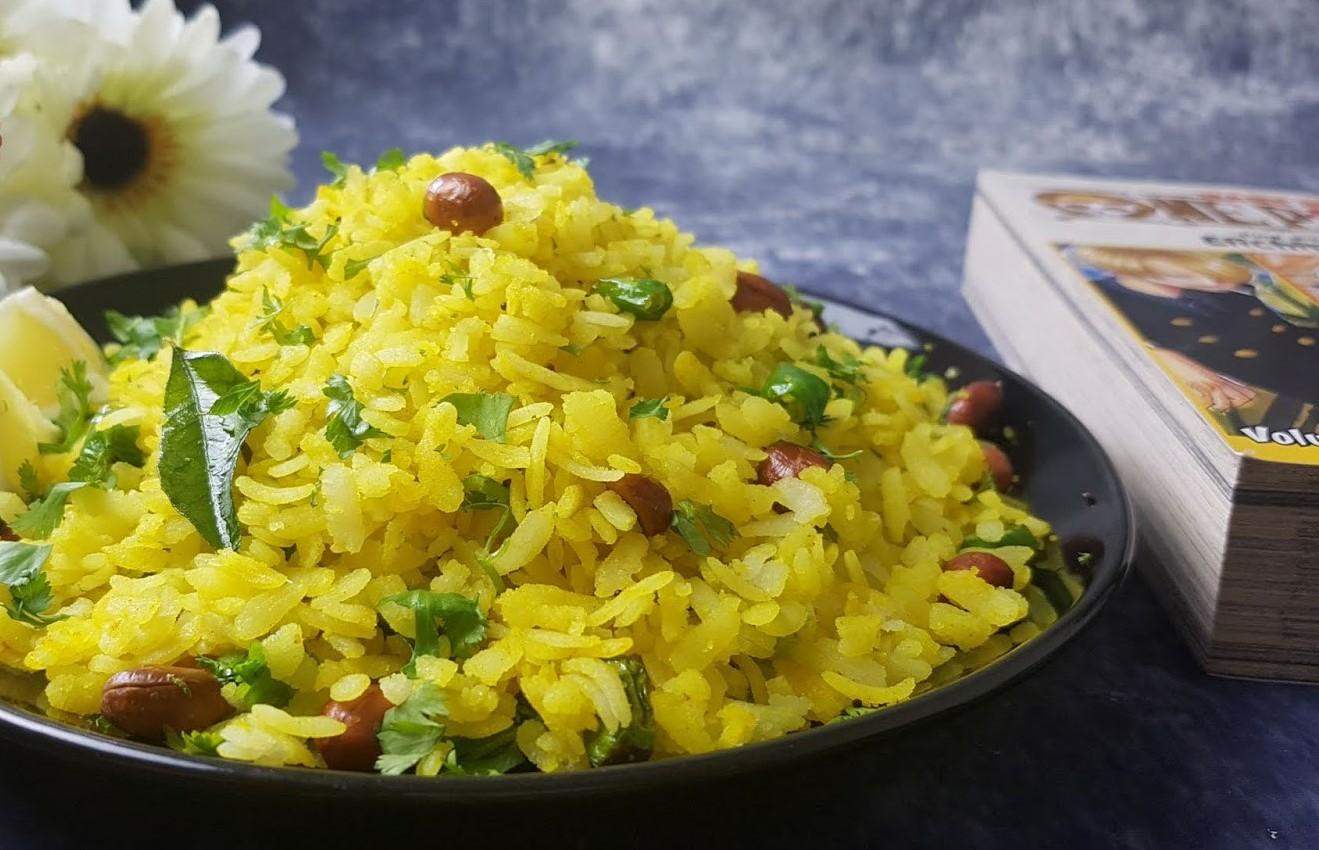Poha: (7, 130, 1044, 760)
